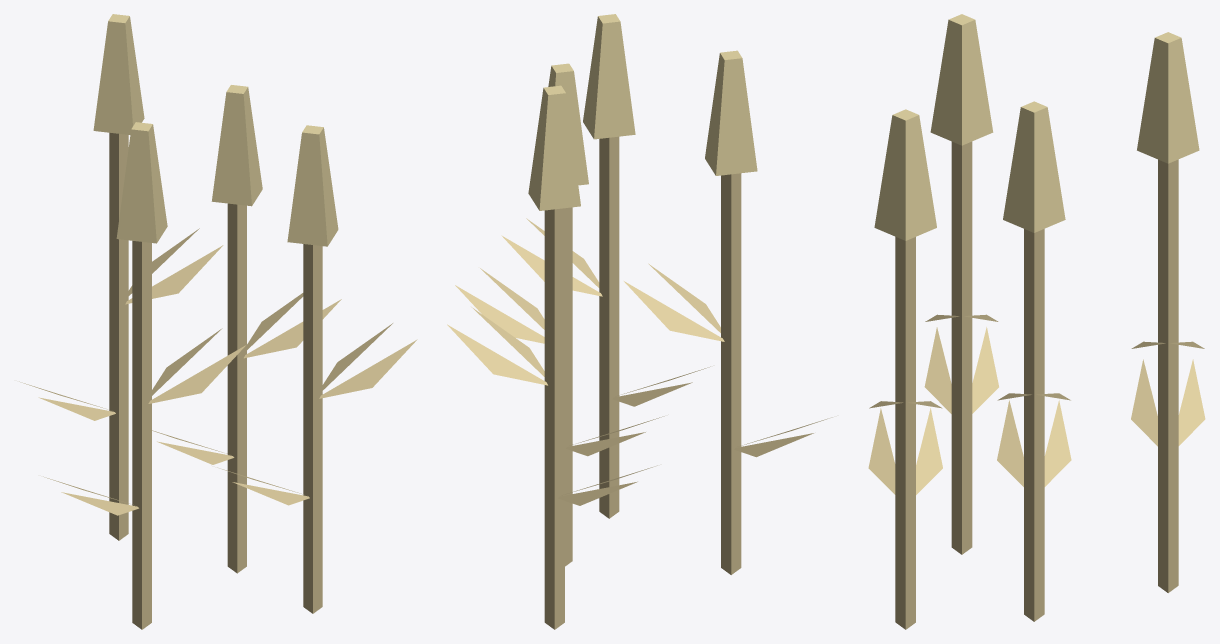
Rendered from wheat-clump-gold.glb.
3 renders of one model, left to right at view 1: azimuth 30°, elevation 25°; view 2: azimuth 150°, elevation 25°; view 3: azimuth 270°, elevation 25°, orthographic. The views are drawn at different scales.
Visible parts, largest first — view 1: wheat-clump-gold; view 2: wheat-clump-gold; view 3: wheat-clump-gold.
Part boxes in pixels (box(x1,y1,x2,y2)): wheat-clump-gold: box(19, 14, 417, 629); wheat-clump-gold: box(447, 14, 832, 629); wheat-clump-gold: box(868, 14, 1205, 629).
Bounding box in the file's own units: 0.8163 × 1.22 × 0.6769.
